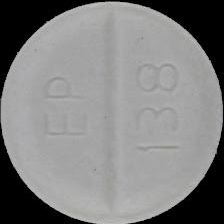53808-1015: (0, 0, 224, 224)
